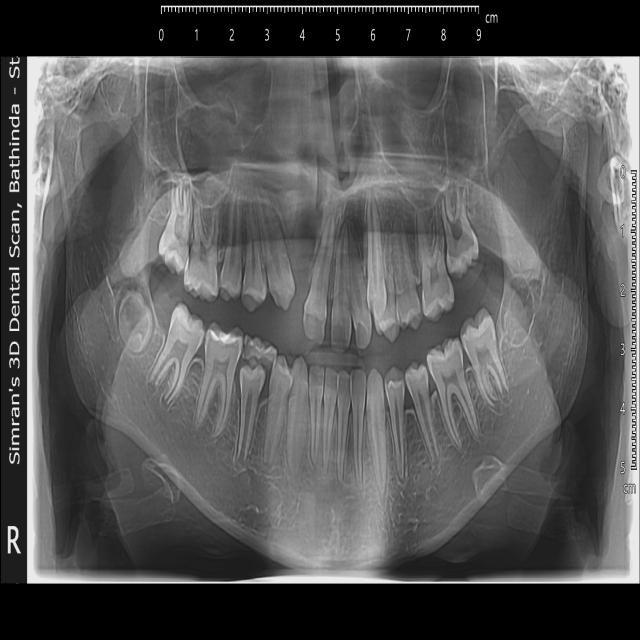Filling: (206, 319, 245, 369)
Missing teeth: (291, 210, 313, 286)
Periapical lesion: (346, 204, 366, 248)
